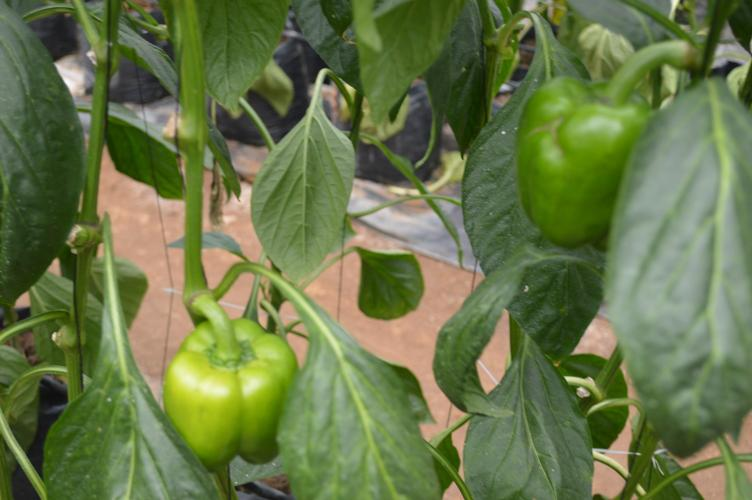BellPepper: (516, 79, 647, 254), (158, 319, 295, 462)
